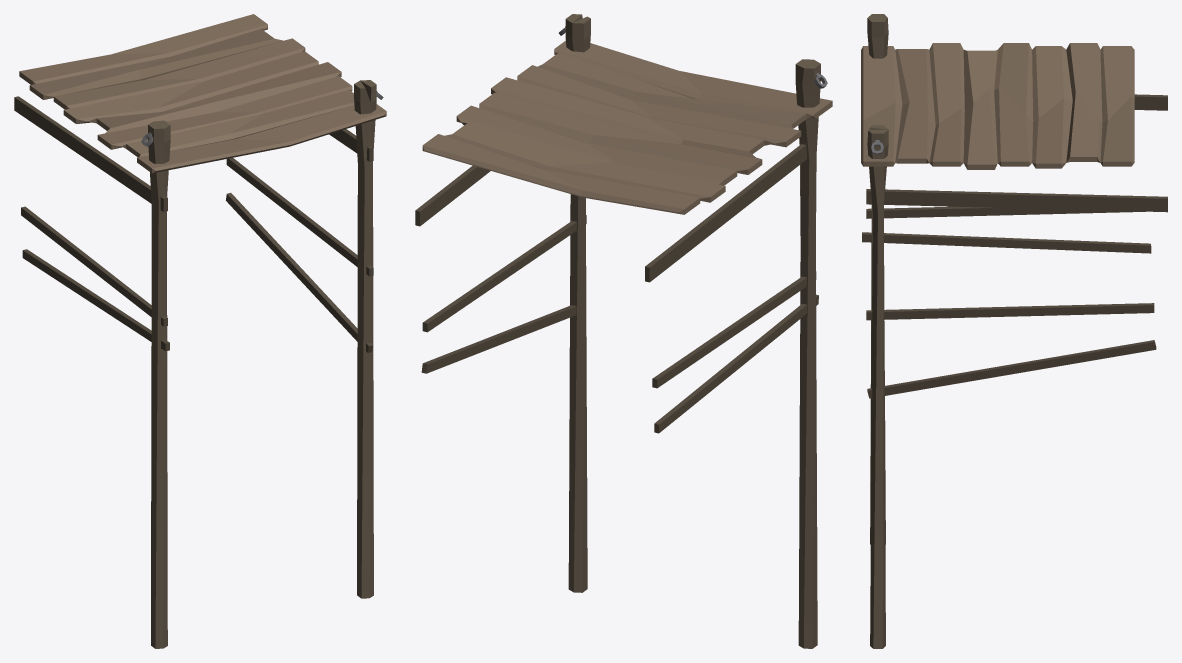
The model's file is SM_Bld_Dock_02.fbx.
3 views of the same model, side by side, from view 1: azimuth 30°, elevation 25°; view 2: azimuth 150°, elevation 25°; view 3: azimuth 270°, elevation 25° (orthographic). The views are drawn at different scales.
Visible parts, largest first — view 1: SM_Bld_Dock_02; view 2: SM_Bld_Dock_02; view 3: SM_Bld_Dock_02.
Boxes of the visible parts, left/top/right/bottom form: SM_Bld_Dock_02: left=14, top=14, right=386, bottom=648; SM_Bld_Dock_02: left=415, top=14, right=832, bottom=648; SM_Bld_Dock_02: left=861, top=14, right=1167, bottom=648.
Size of the model in its own units: 3.81 by 7.67 by 4.06.
